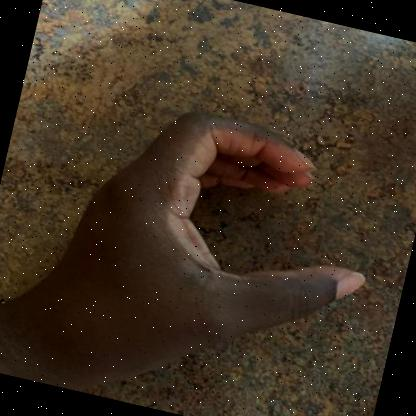C: (10, 113, 365, 381)
